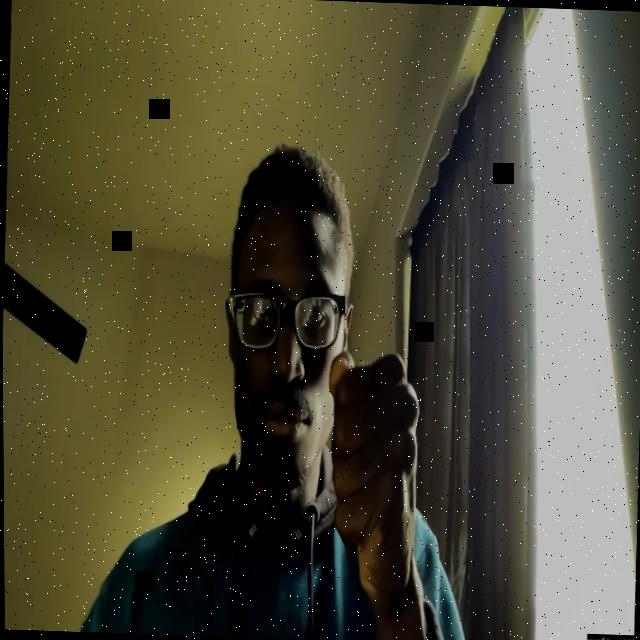Rock: (320, 350, 425, 610)
